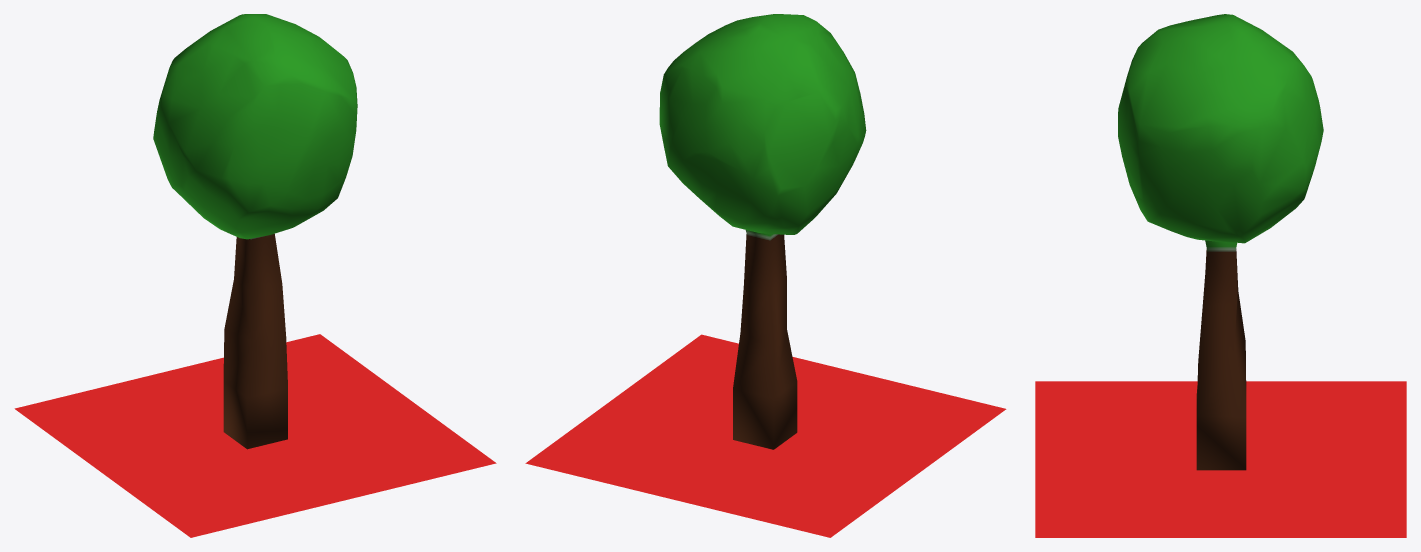
Rendered from tree2.obj.
The picture shows the model from 3 angles, left to right: view 1: azimuth 30°, elevation 25°; view 2: azimuth 150°, elevation 25°; view 3: azimuth 270°, elevation 25°; orthographic projection. The views are drawn at different scales.
Visible parts, largest first — view 1: tree2; view 2: tree2; view 3: tree2.
Boxes of the visible parts, left/top/right/bottom form: tree2: left=14, top=14, right=496, bottom=537; tree2: left=525, top=14, right=1006, bottom=537; tree2: left=1035, top=14, right=1406, bottom=537.
Bounding box in the file's own units: 7.5 × 9.74 × 7.5.
Materials: 1 (1 with a texture image).
